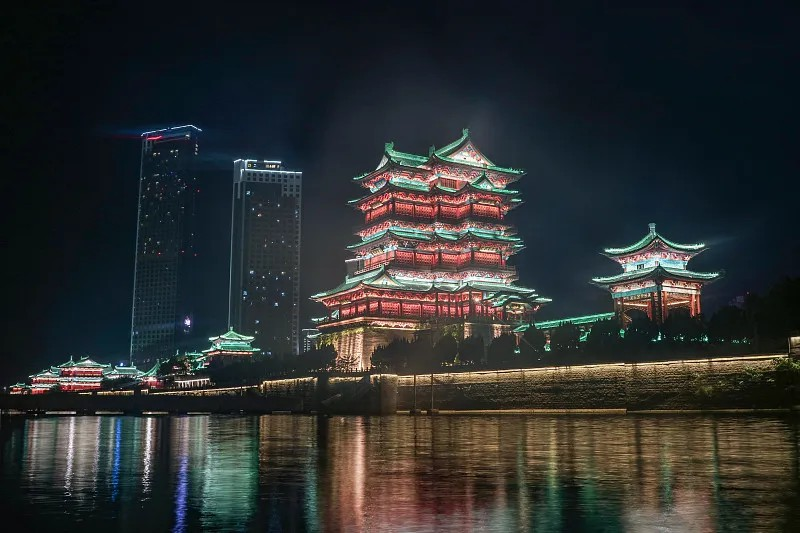Teng: (309, 128, 553, 332)
